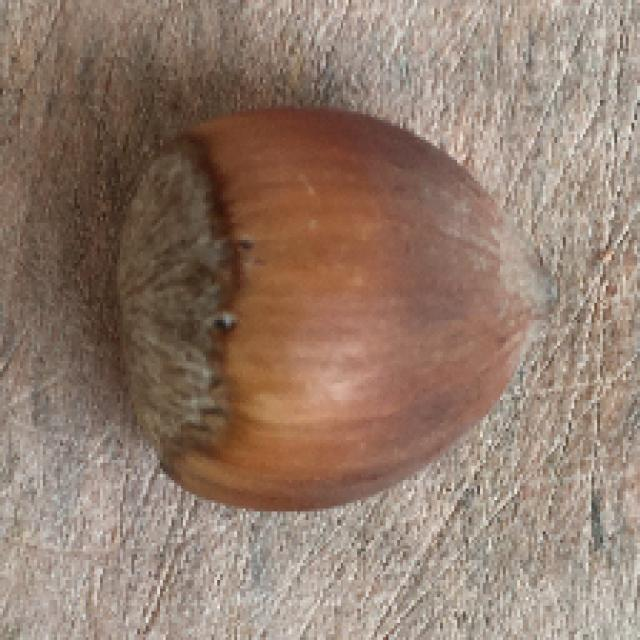damagedHazelnut: (113, 105, 562, 509)
